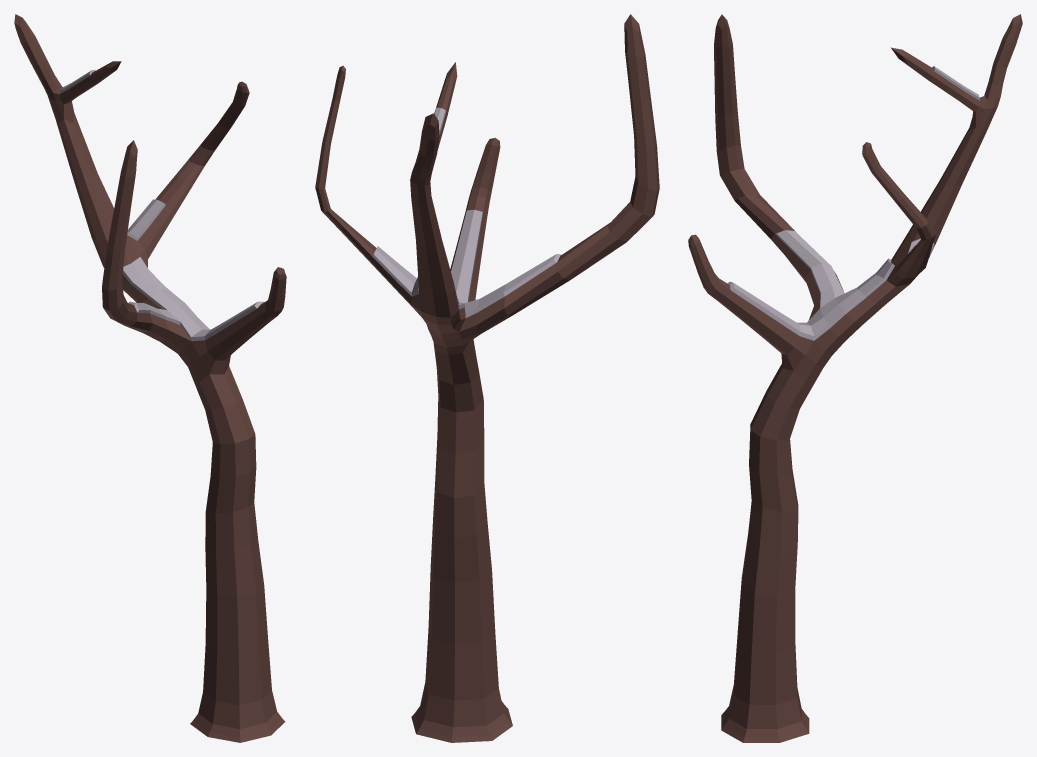
File: CommonTree_Dead_Snow_4.glb
3 views of the same model, side by side, from view 1: azimuth 30°, elevation 25°; view 2: azimuth 150°, elevation 25°; view 3: azimuth 270°, elevation 25° (orthographic). The views are drawn at different scales.
Visible parts, largest first — view 1: CommonTree_Dead_Snow_4_Cube.059; view 2: CommonTree_Dead_Snow_4_Cube.059; view 3: CommonTree_Dead_Snow_4_Cube.059.
Part boxes in pixels (x1,y1,x2,y2): CommonTree_Dead_Snow_4_Cube.059: (14, 14, 286, 742); CommonTree_Dead_Snow_4_Cube.059: (315, 14, 659, 742); CommonTree_Dead_Snow_4_Cube.059: (688, 14, 1022, 742).
Bounding box in the file's own units: 0.816 × 2.37 × 1.08.
